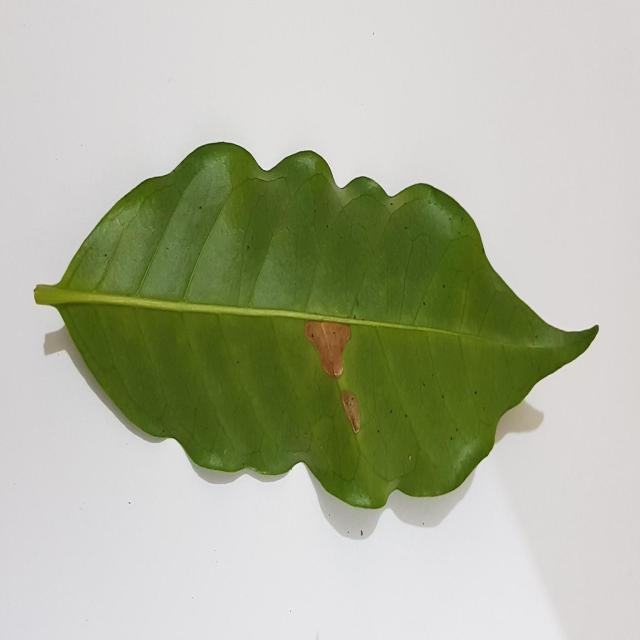miner: (305, 320, 351, 378), (341, 389, 360, 434)
